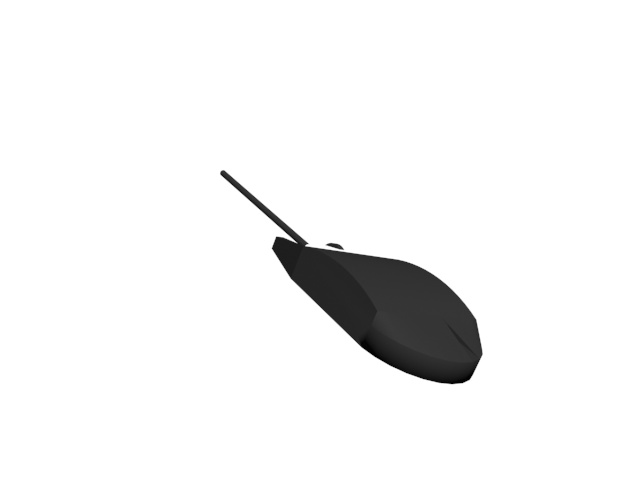mouse: (217, 169, 488, 391)
